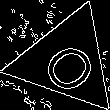O_NE: (31, 28, 102, 93)
